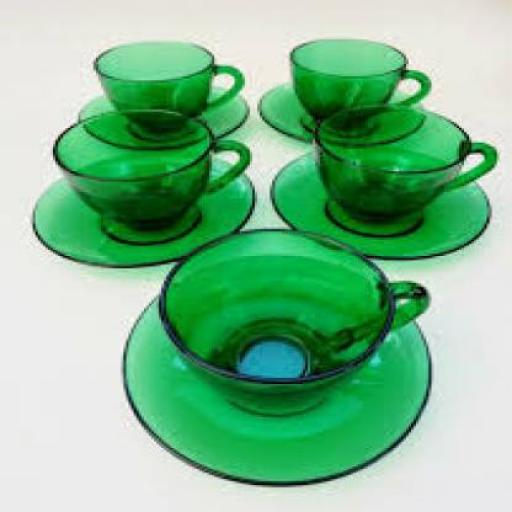glass: (121, 254, 429, 486), (156, 227, 429, 415), (53, 107, 250, 244), (269, 142, 490, 260), (30, 153, 256, 267), (310, 101, 497, 235), (91, 40, 243, 136), (288, 37, 432, 134), (257, 72, 429, 142), (77, 82, 245, 146)
